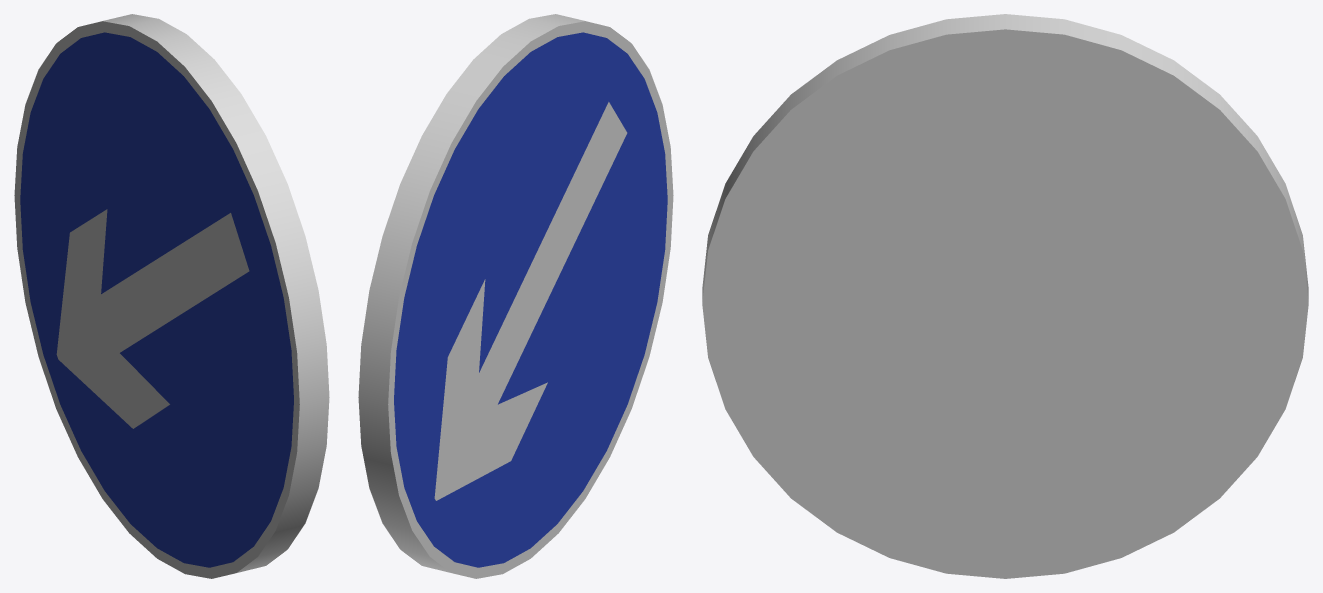
File: LeftSide_Of_The_Road_Driving.fbx
The picture shows the model from 3 angles, left to right: view 1: azimuth 30°, elevation 25°; view 2: azimuth 150°, elevation 25°; view 3: azimuth 270°, elevation 25°; orthographic projection. The views are drawn at different scales.
Parts seen in each view (by area): view 1: LeftSide_Of_The_Road_Driving; view 2: LeftSide_Of_The_Road_Driving; view 3: LeftSide_Of_The_Road_Driving.
Boxes of the visible parts, <box> form: LeftSide_Of_The_Road_Driving: <box>14,14,329,578</box>; LeftSide_Of_The_Road_Driving: <box>358,14,673,578</box>; LeftSide_Of_The_Road_Driving: <box>702,14,1308,578</box>.
Size of the model in its own units: 0.0643 by 1 by 1.
